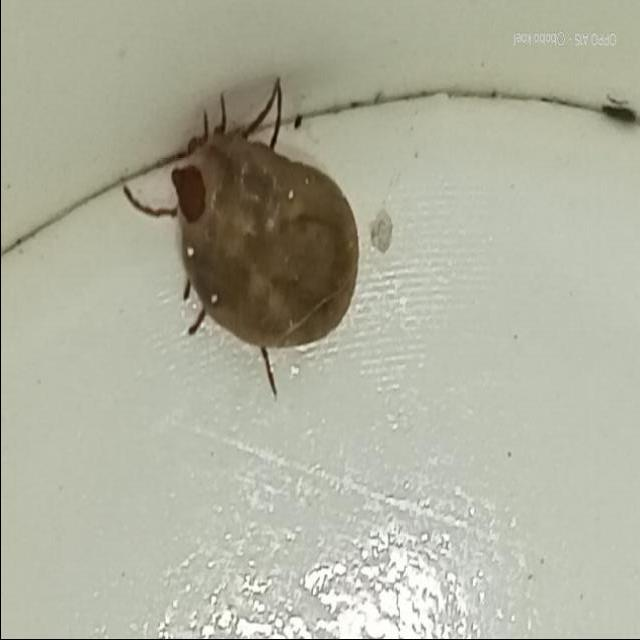Rhipicephalus Sanguineus-F-Fed: (124, 77, 359, 379)
